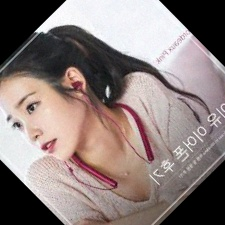earphone: (58, 62, 96, 100)
